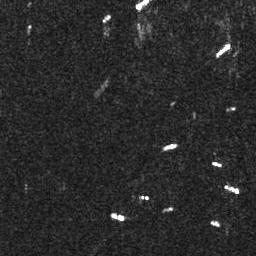ship: (216, 42, 231, 58), (134, 1, 153, 13), (223, 184, 241, 195), (163, 141, 178, 152), (111, 212, 125, 221), (138, 193, 149, 201), (213, 159, 222, 168), (103, 14, 112, 23), (211, 220, 219, 228)
